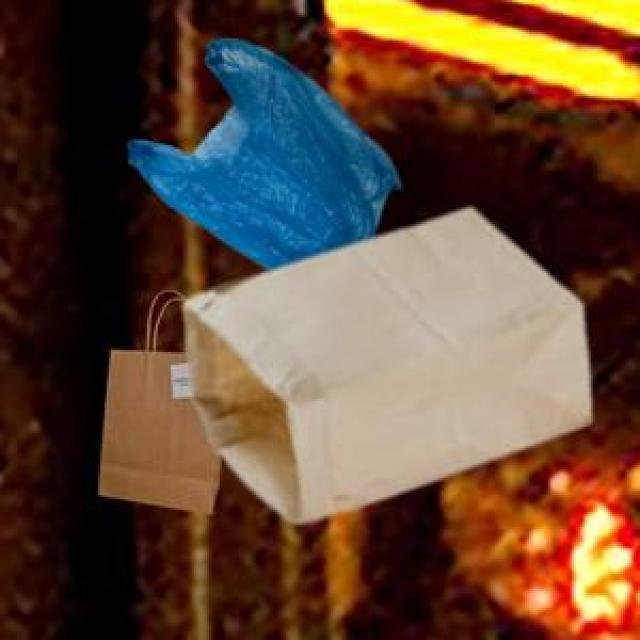paper: (181, 205, 587, 518), (94, 329, 218, 510)
